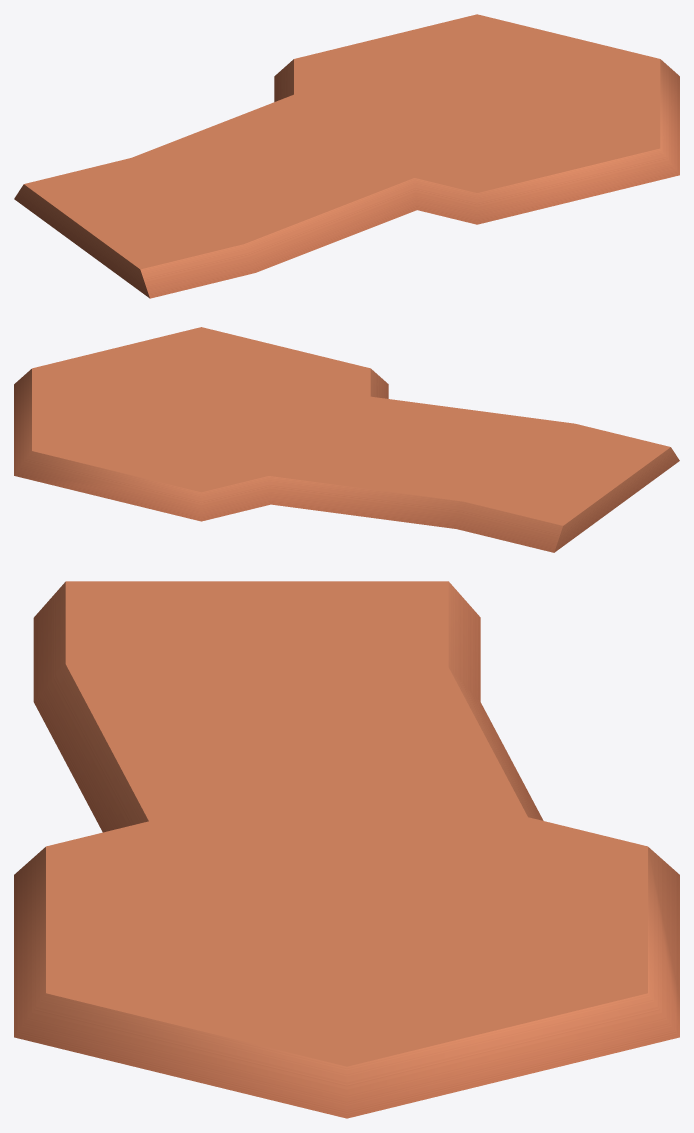
The model's file is path-start.fbx.
3 views of the same model, one above another, from view 1: azimuth 30°, elevation 25°; view 2: azimuth 150°, elevation 25°; view 3: azimuth 270°, elevation 25° (orthographic). The views are drawn at different scales.
Visible parts, largest first — view 1: path_start; view 2: path_start; view 3: path_start.
Boxes of the visible parts, bbox=[...] form: path_start: bbox=[14, 14, 679, 298]; path_start: bbox=[14, 327, 679, 552]; path_start: bbox=[14, 581, 679, 1118].
Bounding box in the file's own units: 74 × 2.5 × 41.57.
Materials: 1 (1 with a texture image).
